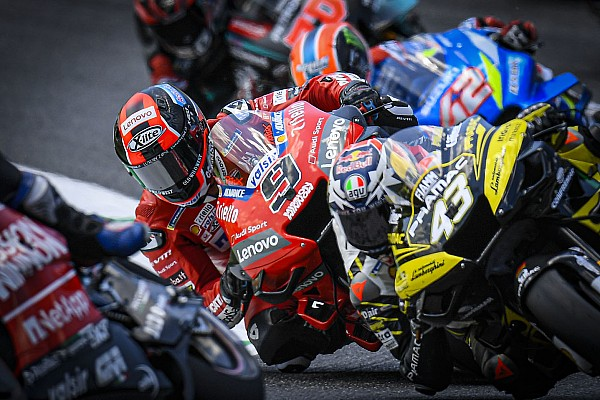helmet: (105, 81, 220, 203), (291, 25, 371, 74)
